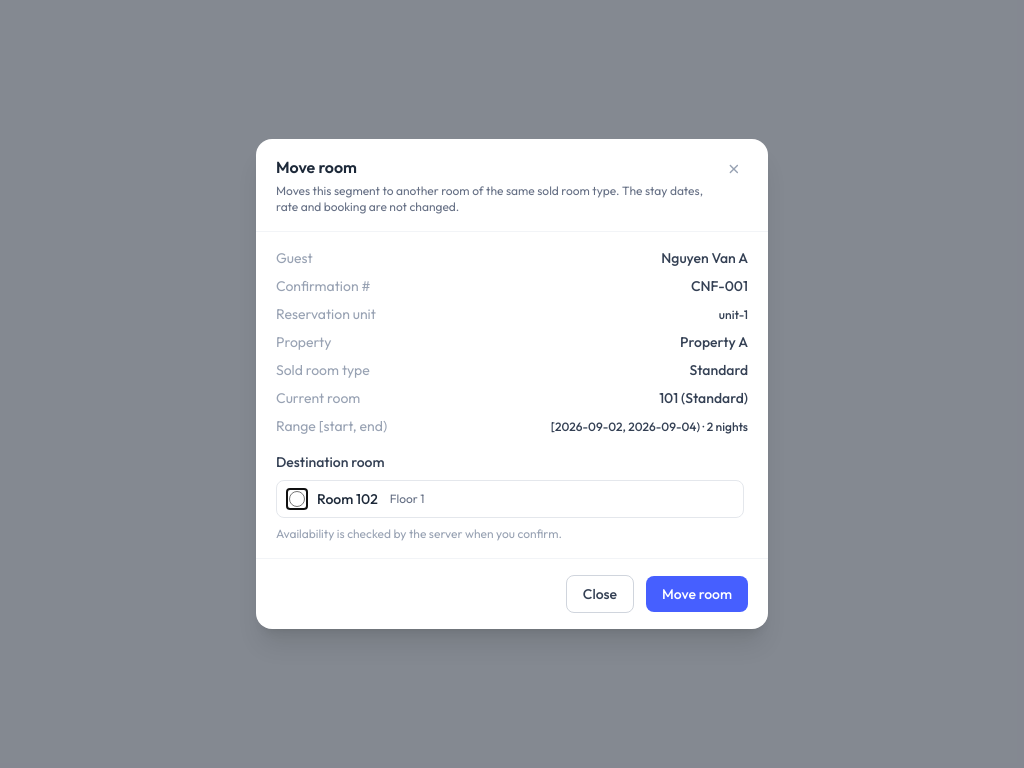
Test case: ReservationMoveDialog (PMS-CAL-001.2-CP04C.4) › 6. a validation rejection and a not-sent outcome both keep resubmit available
The width and height of the screenshot is (1024, 768).
What coordinates should you click on to do the following:
click the radio button labelled "Room 102 Floor 1"
I would click on:
 (297, 499)
Its box is x1=289 y1=491 x2=305 y2=507.
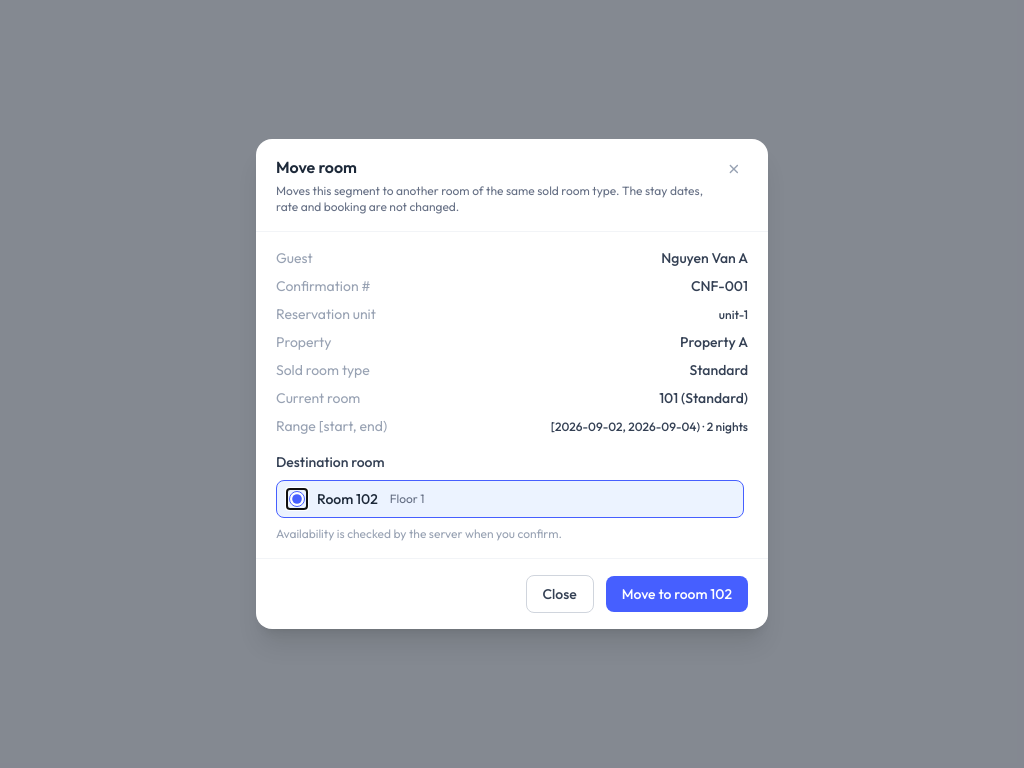
What coordinates should you click on to do the following:
click the button "Move to room 102"
I would click on:
 (677, 594)
Its box is x1=606 y1=576 x2=748 y2=612.
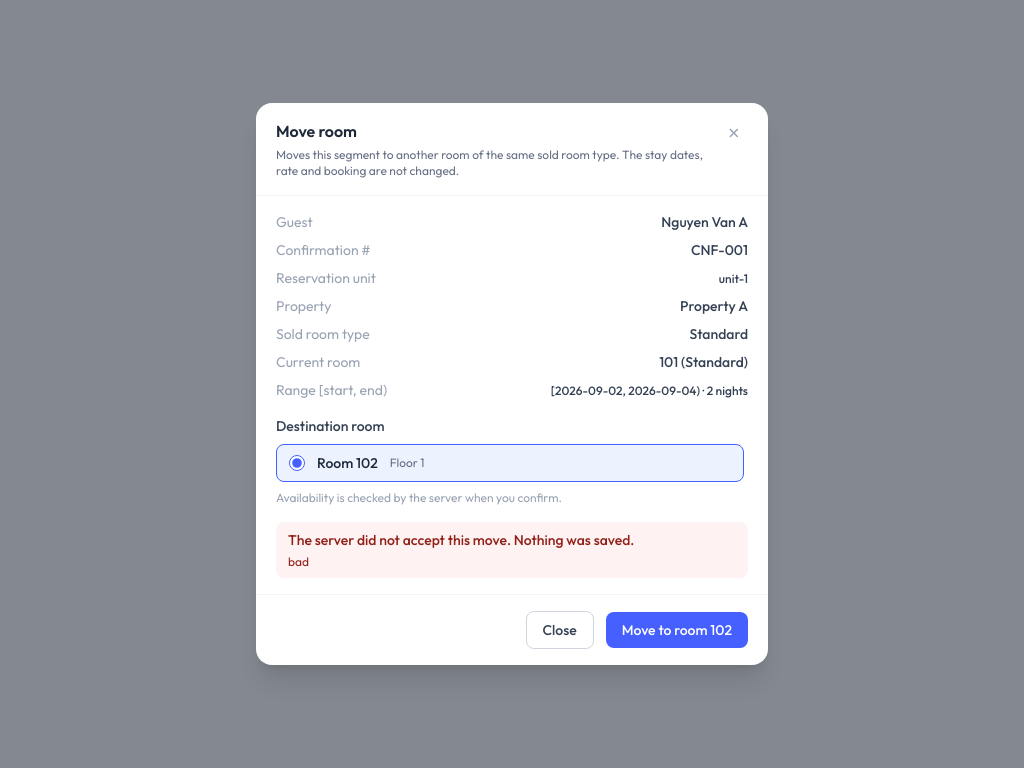
Expected: the button "Move to room 102" is shown
Expected: the text "The server did not accept this move. Nothing was saved." is shown, x1=288 y1=531 x2=634 y2=549
What coordinates should you click on to do the following:
click the button "Move to room 102"
I would click on:
 (677, 630)
Its box is x1=606 y1=612 x2=748 y2=648.
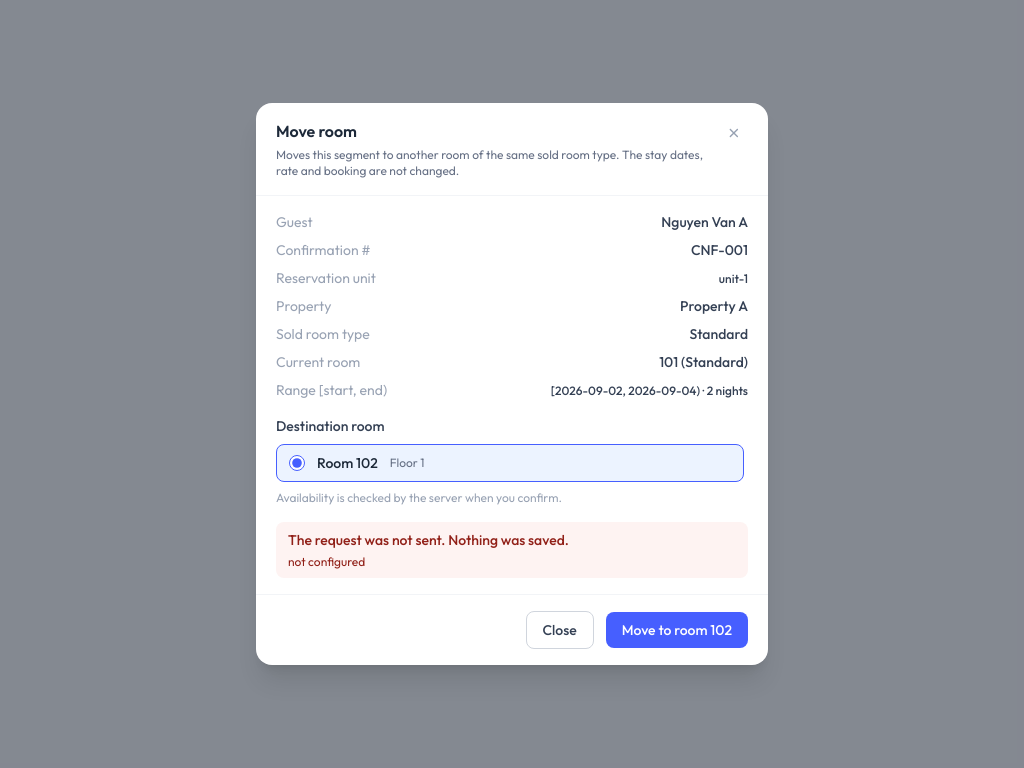
Expected: the button "Move to room 102" is shown, x1=606 y1=612 x2=748 y2=648
Expected: the text "The request was not sent. Nothing was saved." is shown, x1=288 y1=531 x2=569 y2=549
